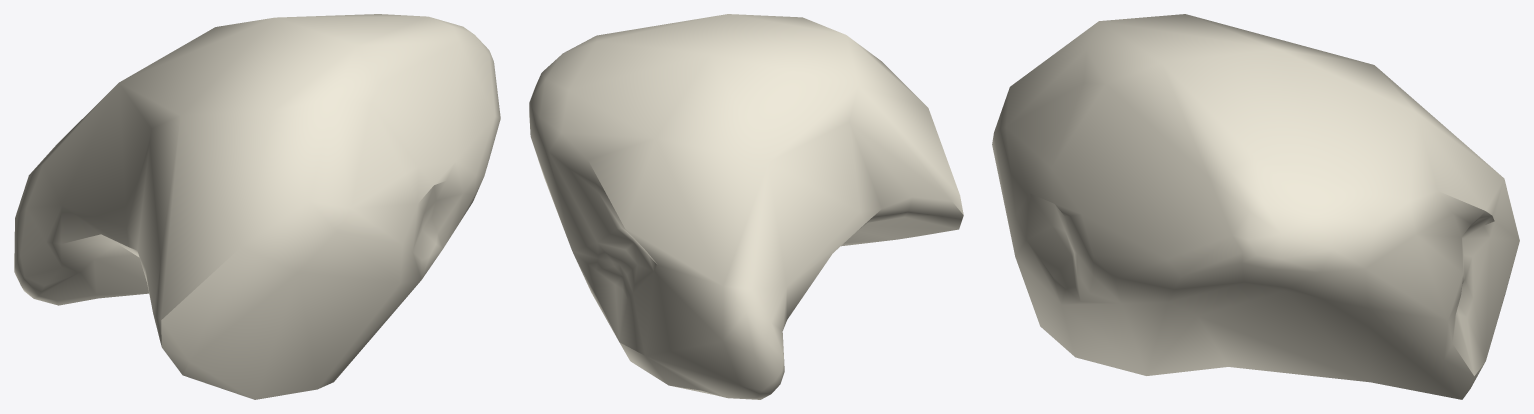
Rendered from fma24437_fj3374.glb.
The picture shows the model from 3 angles, left to right: view 1: azimuth 30°, elevation 25°; view 2: azimuth 150°, elevation 25°; view 3: azimuth 270°, elevation 25°; orthographic projection. The views are drawn at different scales.
Visible parts, largest first — view 1: FMA24437_FJ3374; view 2: FMA24437_FJ3374; view 3: FMA24437_FJ3374.
Part boxes in pixels (x1,y1,x2,y2): FMA24437_FJ3374: [14, 14, 500, 399]; FMA24437_FJ3374: [529, 14, 963, 399]; FMA24437_FJ3374: [992, 14, 1519, 399].
Size of the model in its own units: 0.0165 by 0.0124 by 0.0163.
